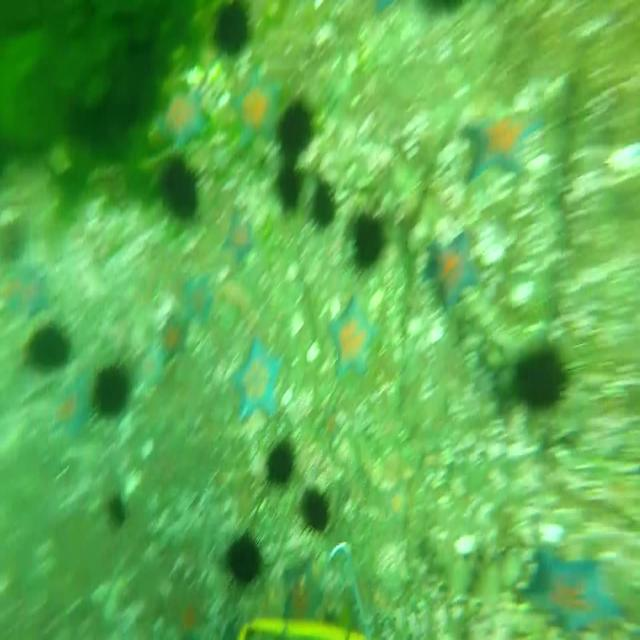echinus: (517, 340, 562, 407), (156, 158, 200, 218), (26, 321, 68, 375), (93, 358, 132, 415), (223, 528, 263, 583), (279, 97, 318, 152), (211, 0, 249, 56), (351, 203, 382, 270), (267, 431, 298, 490), (299, 480, 328, 538), (310, 175, 336, 227), (274, 167, 302, 209)
starfish: (520, 539, 624, 640), (462, 102, 541, 181), (231, 340, 285, 423), (227, 62, 282, 142), (331, 294, 380, 373), (426, 230, 476, 304), (2, 252, 52, 316), (158, 85, 204, 148), (56, 375, 88, 442), (180, 278, 218, 326), (223, 213, 258, 265), (156, 312, 190, 362)
